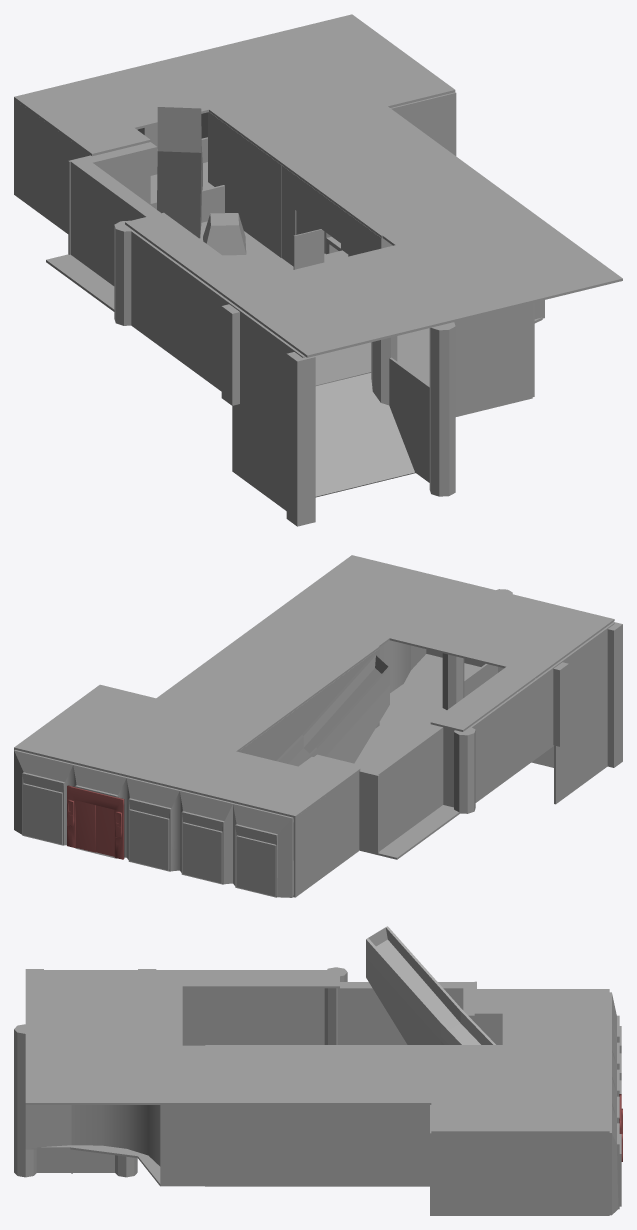
File: MOD_LOBBY TESTEnvironment.fbx
The picture shows the model from 3 angles, top to bottom: view 1: azimuth 30°, elevation 25°; view 2: azimuth 150°, elevation 25°; view 3: azimuth 270°, elevation 25°; orthographic projection. The views are drawn at different scales.
Parts seen in each view (by area): view 1: main_lobby_ceiling, outdoor_ceiling, wall20, stairs, wall31, floor, wall32, wall42, wall25, wall33, pCube53, pCube65 (+8 smaller); view 2: main_lobby_ceiling, outdoor_ceiling, wall20, wall39, floor, wall42, pCube53, wall33, pCube65, pCube62, pCube63, pCube64 (+13 smaller); view 3: main_lobby_ceiling, outdoor_ceiling, wall26, wall34, wall20, pCube53, wall30, wall29, wall42, wall39, pCylinder4, wall37 (+4 smaller).
Boxes of the visible parts, x1,y1,x2,y2 form: main_lobby_ceiling: (14,14,518,237); outdoor_ceiling: (125,202,622,357); wall20: (123,224,305,510); stairs: (315,373,415,497); wall31: (454,303,532,414); floor: (14,194,542,416); wall32: (208,112,281,258); wall42: (70,158,160,285); wall25: (281,165,383,269); wall33: (14,99,90,232); pCube53: (157,107,202,238); pCube65: (286,352,315,526); main_lobby_ceiling: (14,618,379,817); outdoor_ceiling: (265,555,614,731); wall20: (463,622,614,804); wall39: (14,750,293,897); floor: (293,654,480,897); wall42: (366,724,443,851); pCube53: (276,654,389,818); wall33: (293,772,359,896); pCube65: (607,622,622,767); pCube62: (129,809,169,870); pCube63: (182,822,222,883); pCube64: (236,835,276,896); main_lobby_ceiling: (205,989,609,1133); outdoor_ceiling: (25,970,339,1104); wall26: (205,1105,429,1186); wall34: (430,1132,609,1213); wall20: (182,988,324,1045); pCube53: (366,926,495,1044); wall30: (25,1105,160,1166); wall29: (160,1105,205,1186); wall42: (340,982,474,1044); wall39: (609,992,619,1215); pCylinder4: (14,1024,36,1177); wall37: (36,1149,114,1172).
Size of the model in its own units: 1751 by 1063 by 2711.
